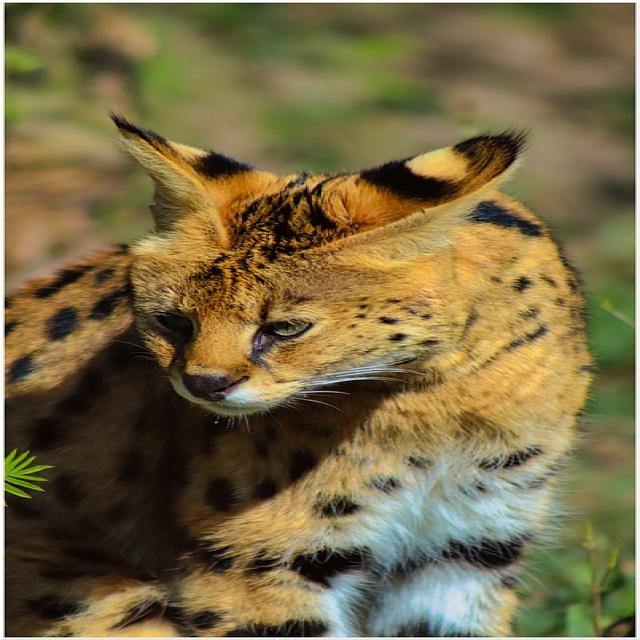Carnivorous: (6, 112, 594, 639)
